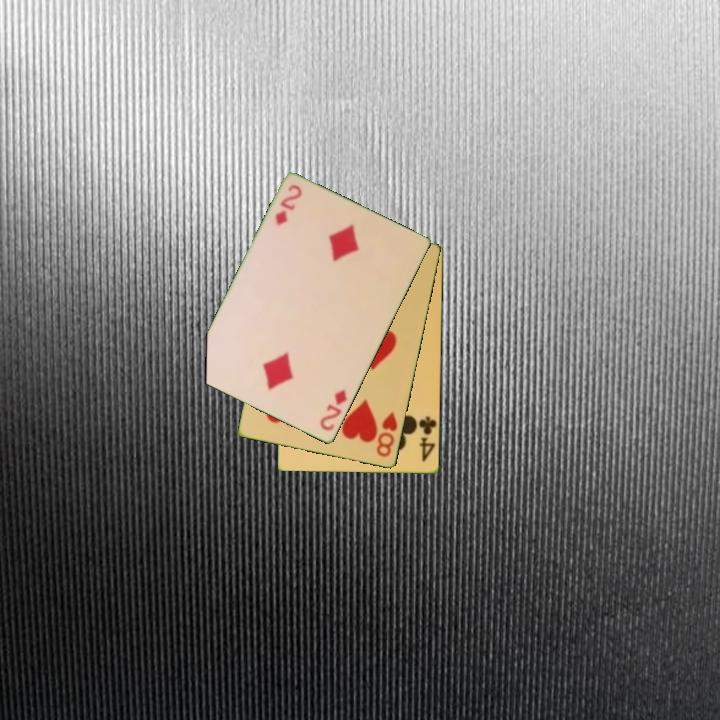2d: (316, 386, 350, 434), (272, 181, 305, 229)
4c: (416, 413, 438, 465)
8h: (373, 408, 401, 460)
